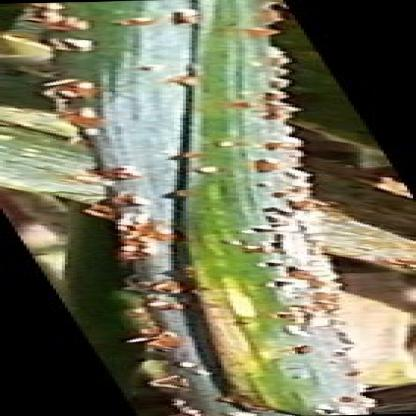wheat Stem Rust: (113, 223, 168, 257), (281, 292, 347, 318), (242, 91, 297, 118), (138, 279, 184, 309), (122, 330, 176, 352), (321, 394, 383, 412), (54, 76, 99, 98), (251, 3, 285, 32), (254, 57, 288, 85), (233, 156, 282, 174), (279, 266, 323, 286), (90, 166, 145, 181), (41, 16, 85, 34), (213, 393, 257, 409), (270, 197, 327, 208), (167, 399, 204, 415), (63, 110, 100, 124), (231, 244, 276, 255), (154, 75, 195, 87), (286, 342, 321, 355), (152, 378, 197, 388), (170, 9, 203, 22), (265, 140, 299, 151), (172, 358, 197, 371), (118, 17, 154, 26), (245, 181, 274, 188), (260, 192, 281, 197), (215, 139, 227, 146)
